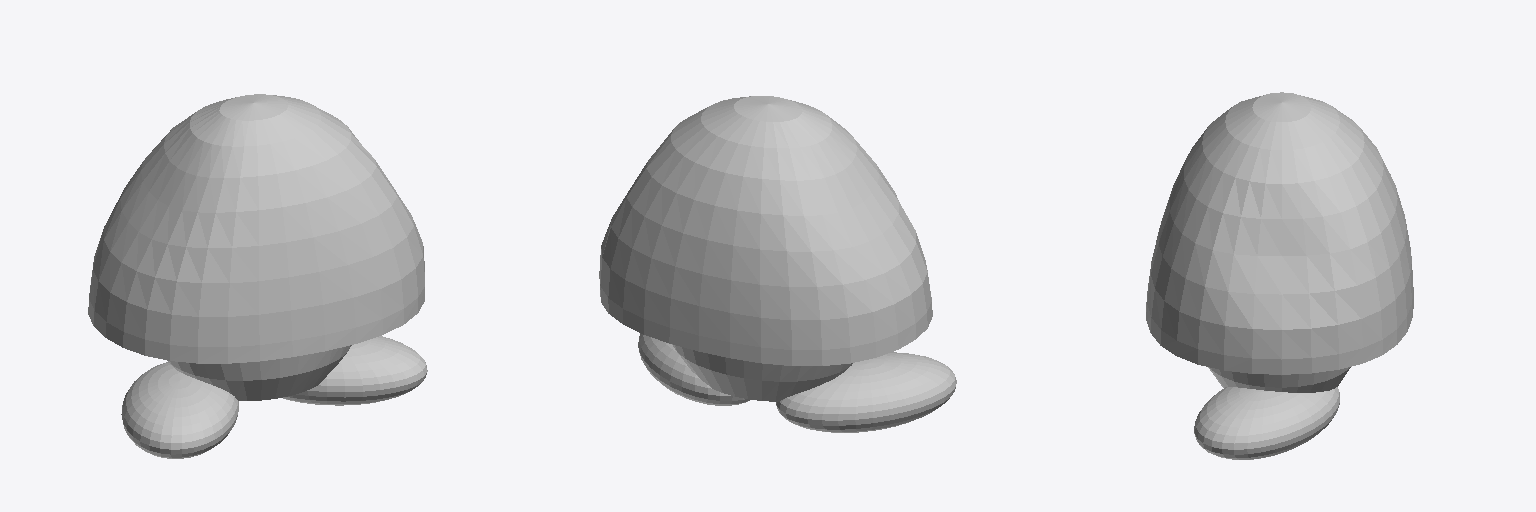
File: villano.obj
3 views of the same model, side by side, from view 1: azimuth 30°, elevation 25°; view 2: azimuth 150°, elevation 25°; view 3: azimuth 270°, elevation 25° (orthographic).
Visible parts, largest first — view 1: Sphere.001_0, Sphere.001_2, Sphere.001_1; view 2: Sphere.001_0, Sphere.001_2, Sphere.001_1; view 3: Sphere.001_0, Sphere.001_2, Sphere.001_1.
Part boxes in pixels (left/top/right/bottom): Sphere.001_0: left=88, top=94, right=424, bottom=363; Sphere.001_2: left=121, top=336, right=427, bottom=458; Sphere.001_1: left=168, top=345, right=351, bottom=400; Sphere.001_0: left=599, top=96, right=932, bottom=365; Sphere.001_2: left=638, top=333, right=956, bottom=432; Sphere.001_1: left=672, top=344, right=852, bottom=401; Sphere.001_0: left=1146, top=92, right=1413, bottom=374; Sphere.001_2: left=1194, top=387, right=1339, bottom=459; Sphere.001_1: left=1208, top=367, right=1350, bottom=392.
Bounding box in the file's own units: 0.5596 × 0.5438 × 0.4318.